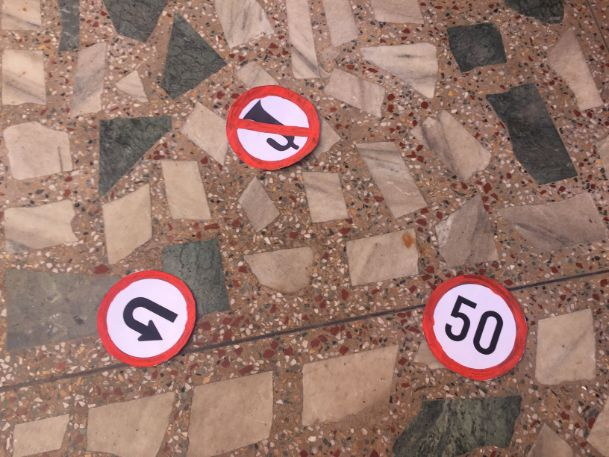no-horn: (224, 87, 318, 167)
speed-50: (424, 274, 524, 380)
u-turn: (98, 270, 198, 362)
